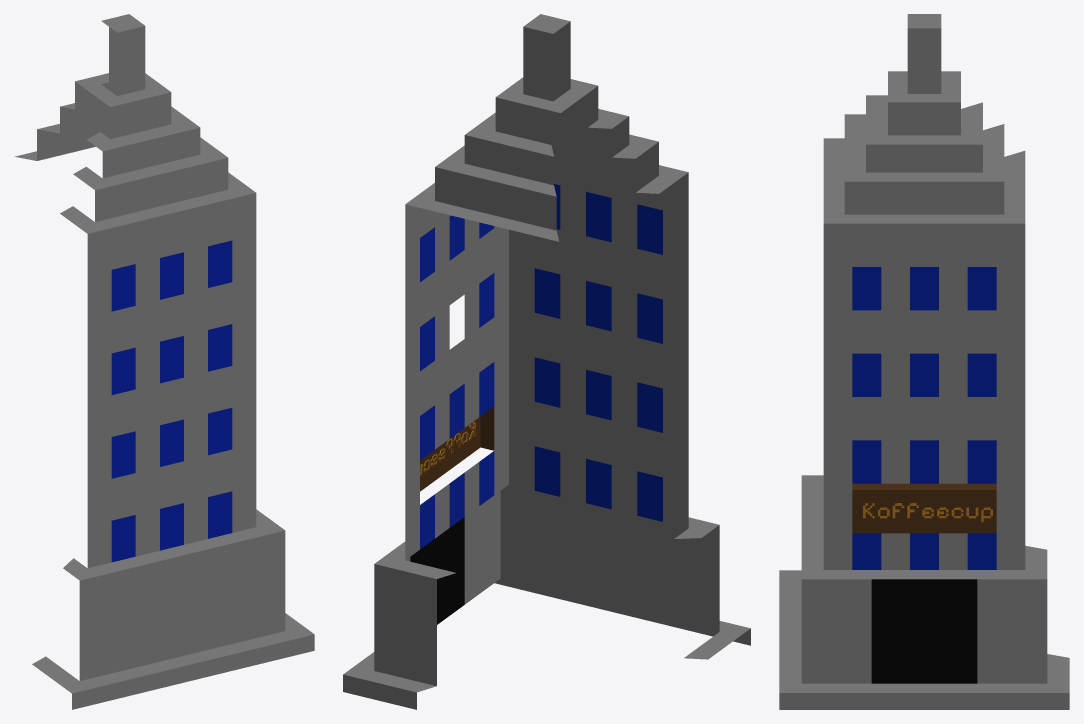
File: KoffeecupBuilding.glb
The picture shows the model from 3 angles, left to right: view 1: azimuth 30°, elevation 25°; view 2: azimuth 150°, elevation 25°; view 3: azimuth 270°, elevation 25°; orthographic projection. The views are drawn at different scales.
Visible parts, largest first — view 1: Koffeecup; view 2: Koffeecup; view 3: Koffeecup.
Part boxes in pixels (x1,y1,x2,y2): Koffeecup: (15,14,314,709); Koffeecup: (343,14,750,709); Koffeecup: (779,14,1069,709).
Size of the model in its own units: 19.82 by 47.25 by 19.82.
